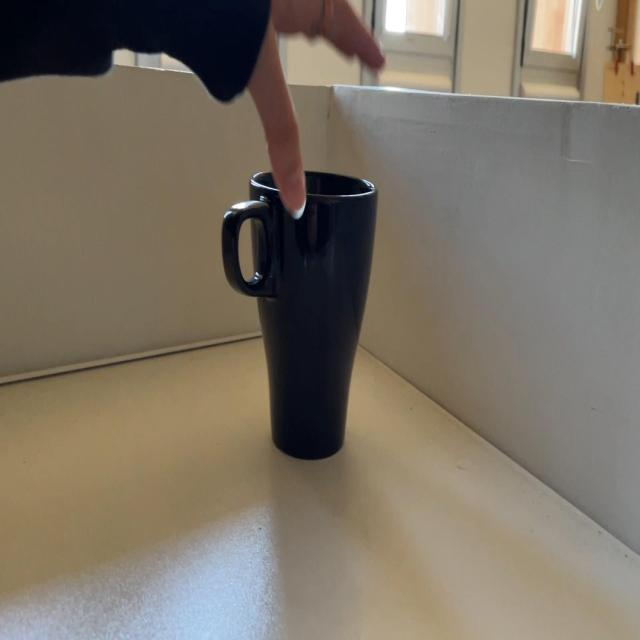cup: (222, 174, 386, 466)
